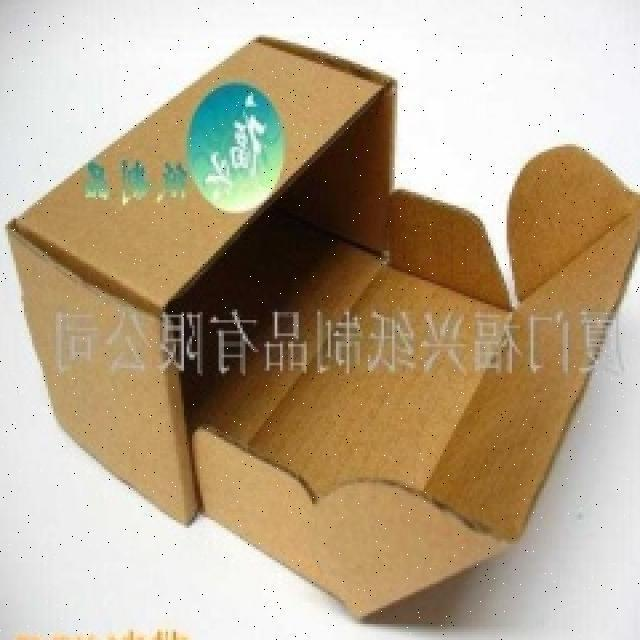box: (3, 21, 640, 629)
